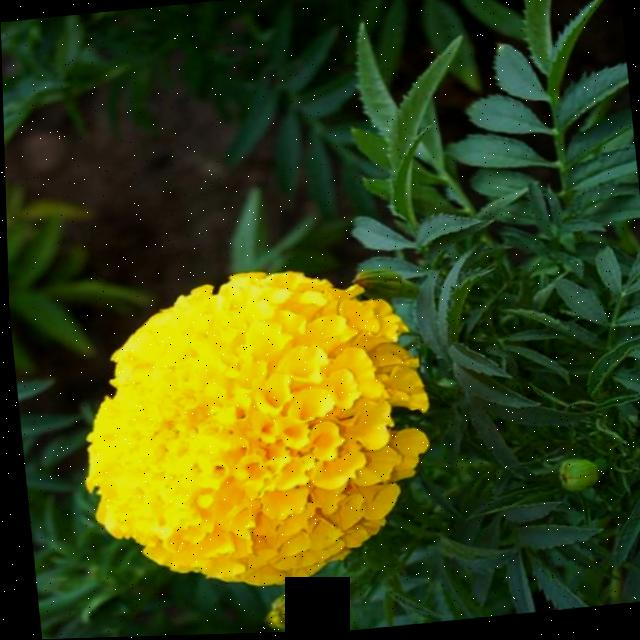marigold: (32, 190, 537, 599)
